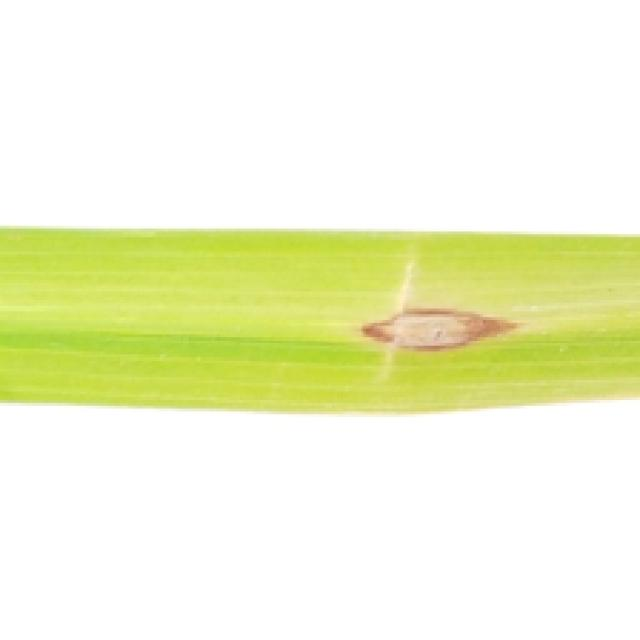Rice___Rice_Blast: (0, 225, 637, 417)
